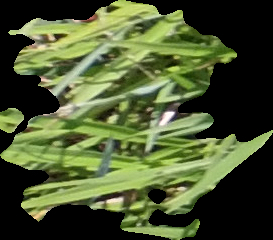grass: (1, 1, 272, 239)
